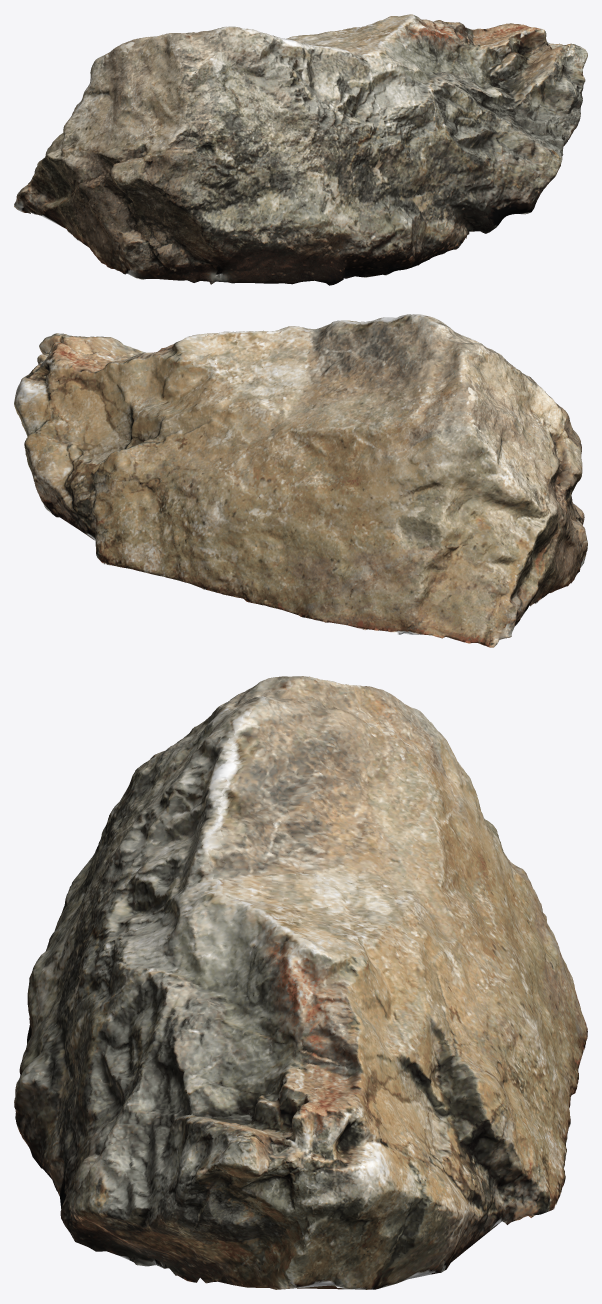
File: sparse2.glb
The picture shows the model from 3 angles, top to bottom: view 1: azimuth 30°, elevation 25°; view 2: azimuth 150°, elevation 25°; view 3: azimuth 270°, elevation 25°; orthographic projection. The views are drawn at different scales.
Visible parts, largest first — view 1: Node; view 2: Node; view 3: Node.
Part boxes in pixels (<box>): Node: <box>14,14,587,285</box>; Node: <box>14,314,587,647</box>; Node: <box>14,676,587,1289</box>.
Size of the model in its own units: 4.46 by 1.89 by 2.68.
1 material, 1 textured.
